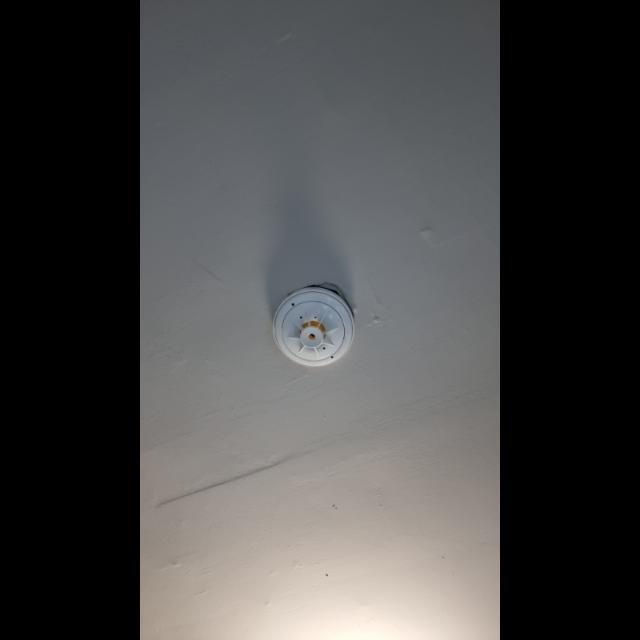Smoke-Detector: (275, 289, 355, 366)
